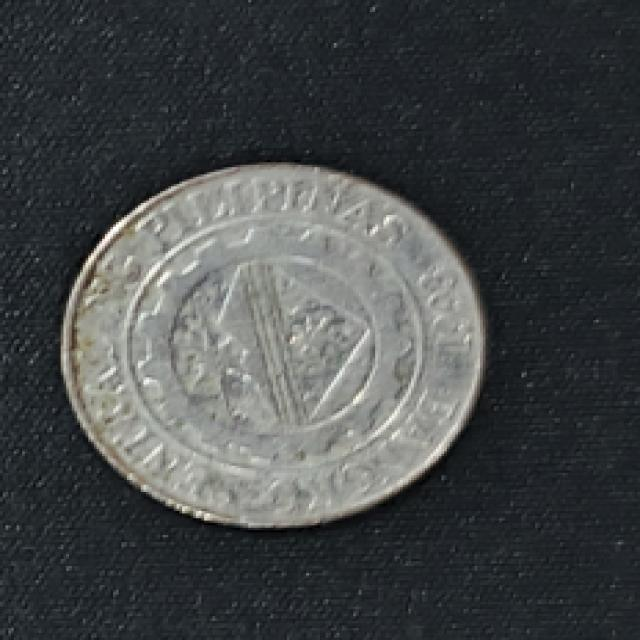1_peso: (63, 167, 480, 525)
